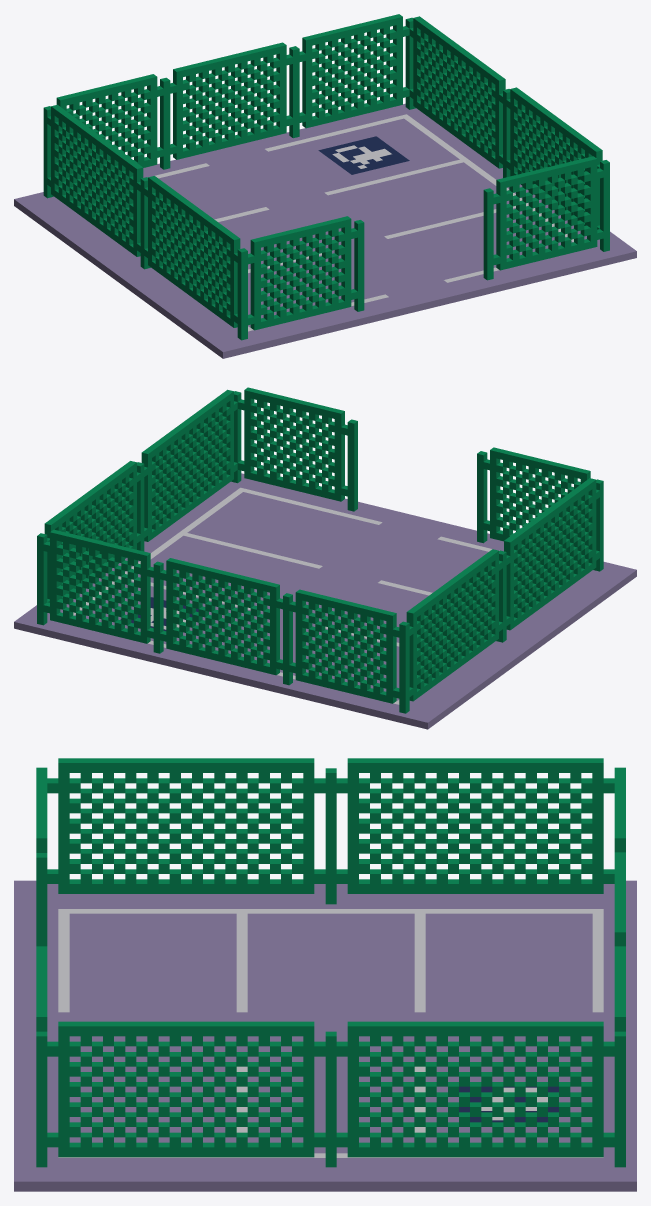
The model's file is parking_lot_b.obj.
3 renders of one model, top to bottom at view 1: azimuth 30°, elevation 25°; view 2: azimuth 150°, elevation 25°; view 3: azimuth 270°, elevation 25°, orthographic. The views are drawn at different scales.
Size of the model in its own units: 6.4 by 1.5 by 5.6.
1 material, 1 textured.
